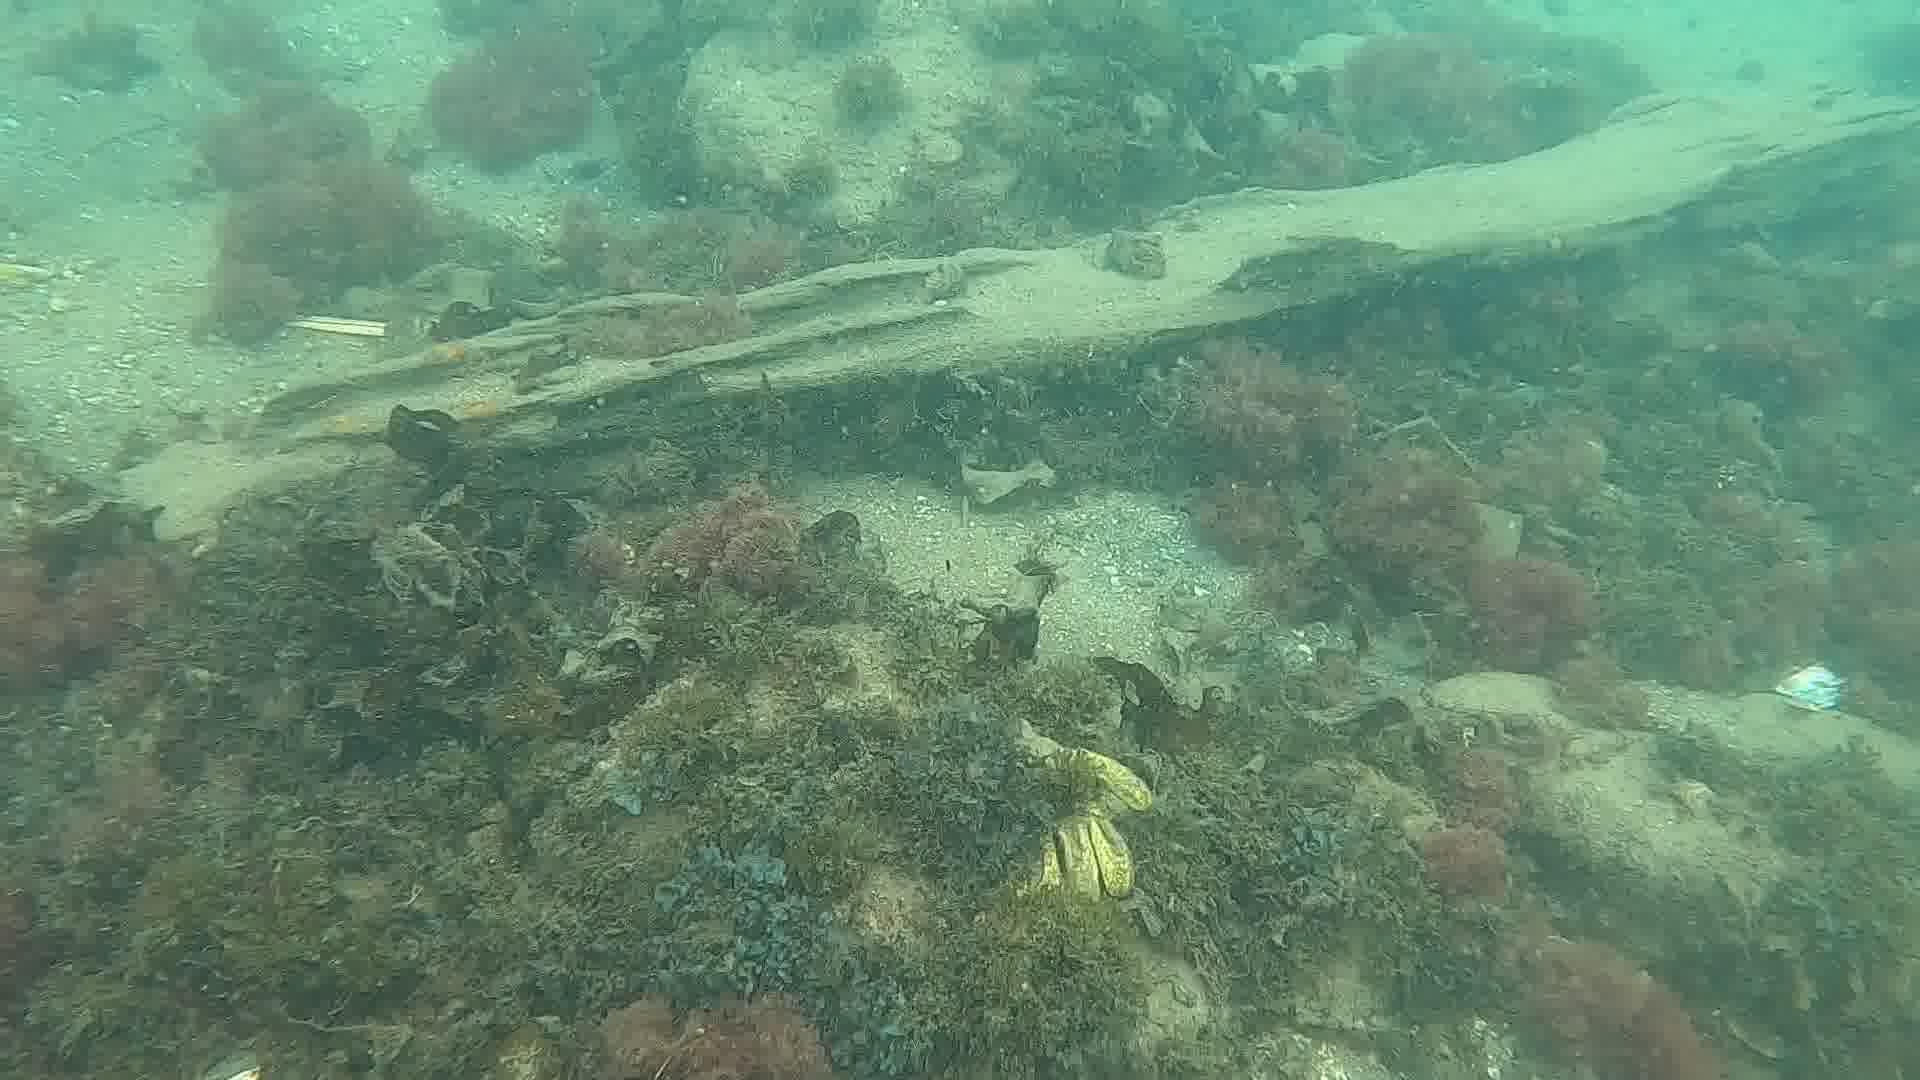wood: (109, 82, 1920, 554)
